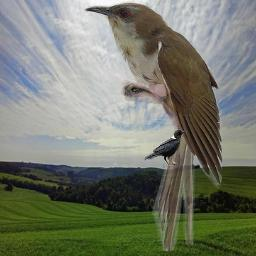Crow: (143, 128, 187, 166)
Cuckoo: (84, 0, 222, 251)
